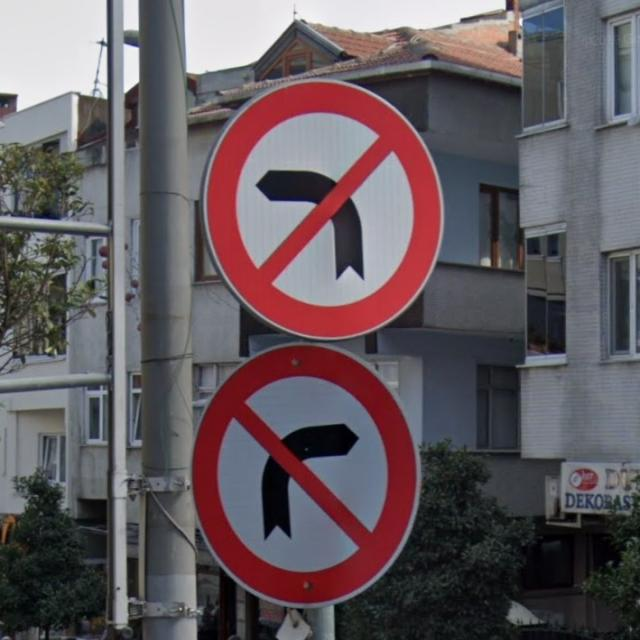sagadonulmez: (191, 343, 419, 609)
soladonulmez: (202, 78, 446, 339)
